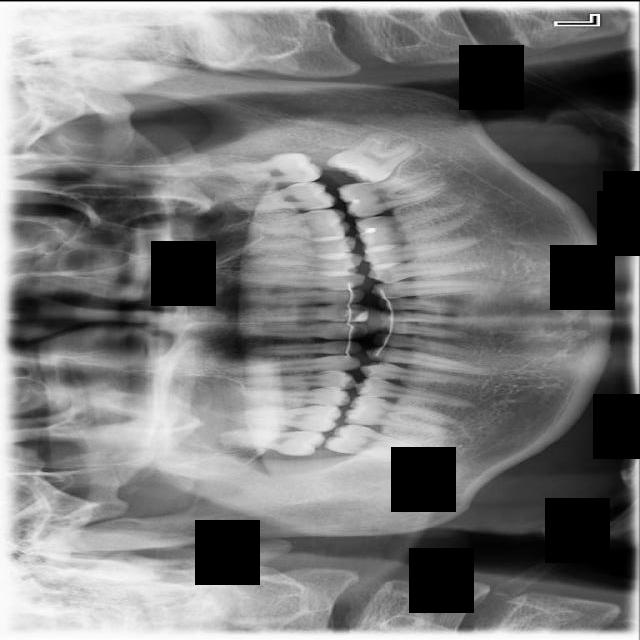52: (334, 170, 387, 228), (353, 207, 401, 256), (321, 300, 370, 323)
73: (584, 28, 588, 36)
BioHorizons Implant: (224, 180, 335, 213)
BioLife Implant: (220, 151, 323, 184)
Biomet 3i Implant: (325, 113, 425, 200)
Blue Sky Bio Implant: (336, 166, 453, 222)
Caries: (216, 428, 325, 458)
Implant: (324, 418, 431, 467)
